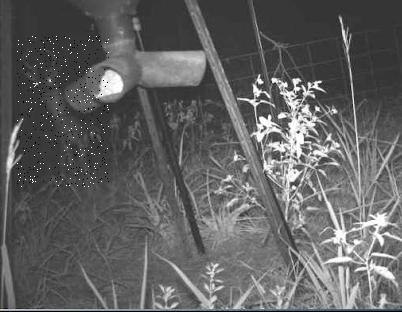Deer: (17, 36, 109, 187)
